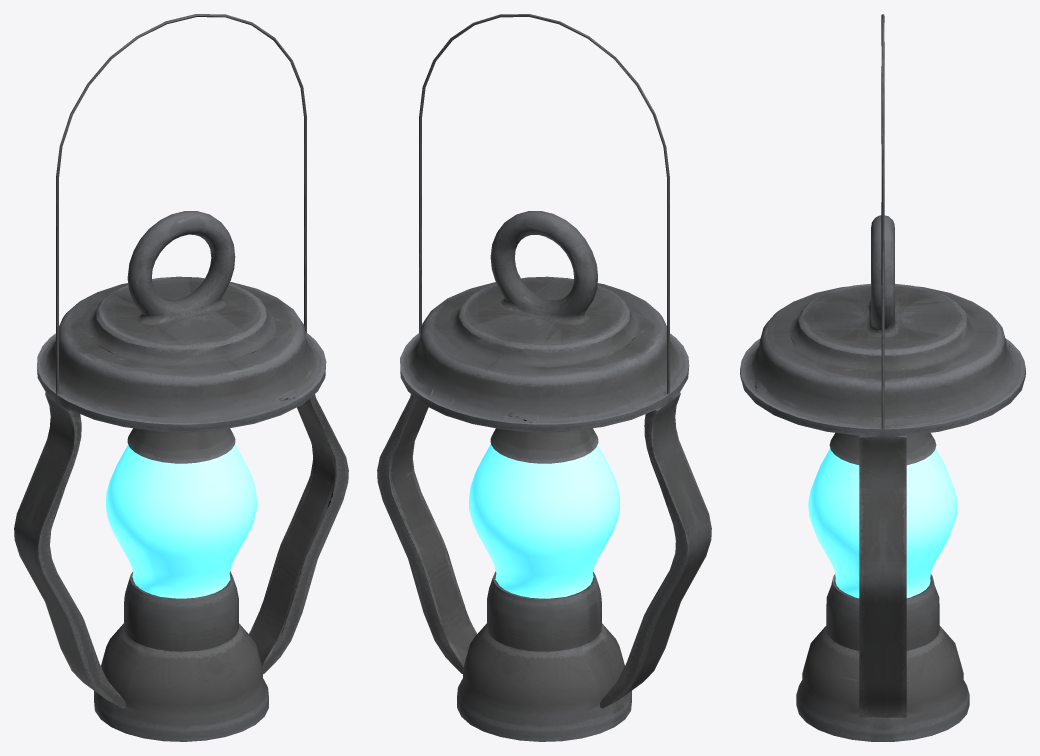
File: lantern.fbx
3 renders of one model, left to right at view 1: azimuth 30°, elevation 25°; view 2: azimuth 150°, elevation 25°; view 3: azimuth 270°, elevation 25°, orthographic.
Parts seen in each view (by area): view 1: Lantern; view 2: Lantern; view 3: Lantern.
Boxes of the visible parts, left/top/right/bottom form: Lantern: left=14, top=14, right=348, bottom=741; Lantern: left=377, top=14, right=711, bottom=741; Lantern: left=740, top=14, right=1025, bottom=741.
Size of the model in its own units: 18.88 by 39.9 by 15.26.
Materials: 2 (1 with a texture image).
